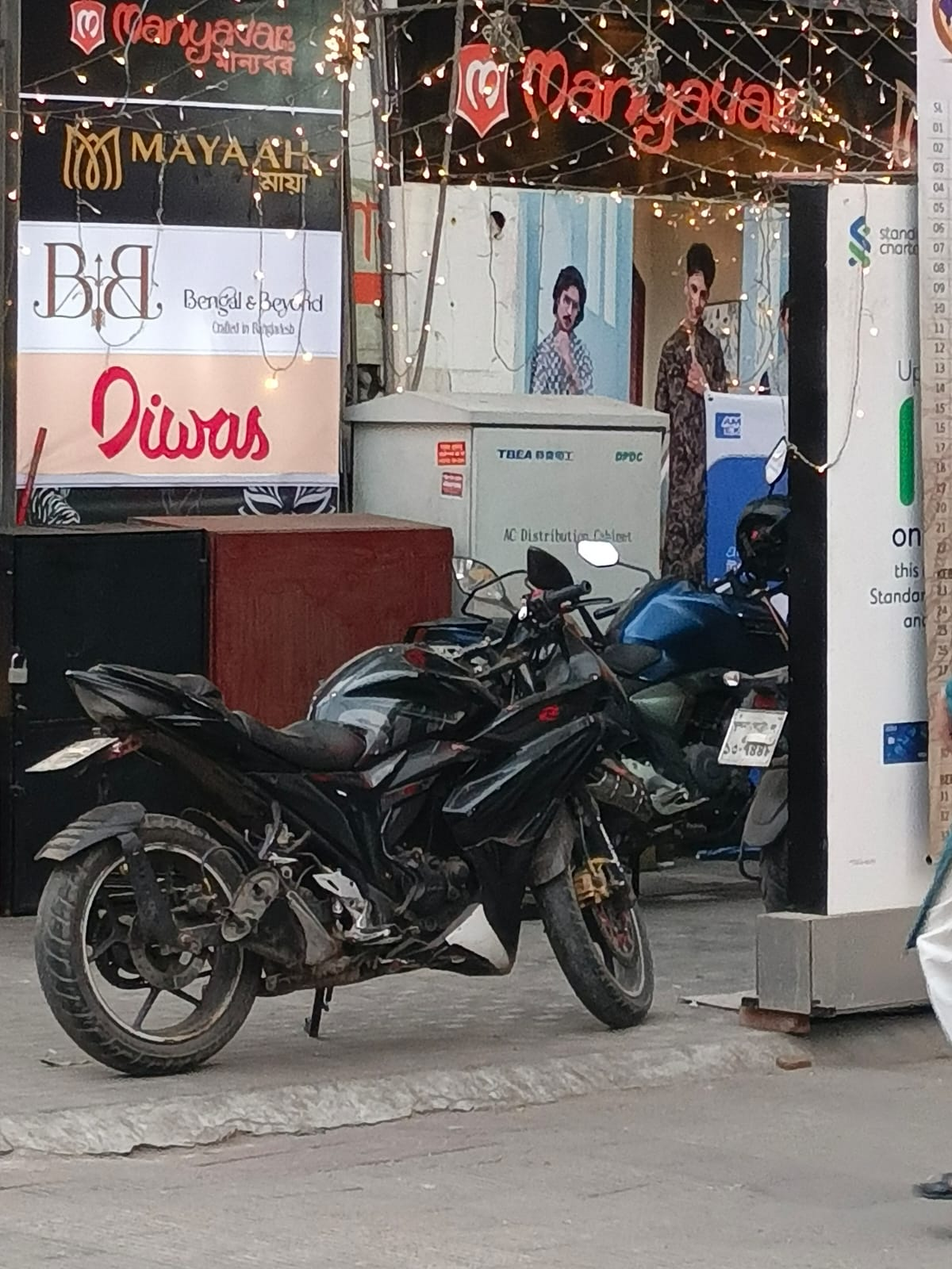Bikes: (8, 525, 674, 1073)
